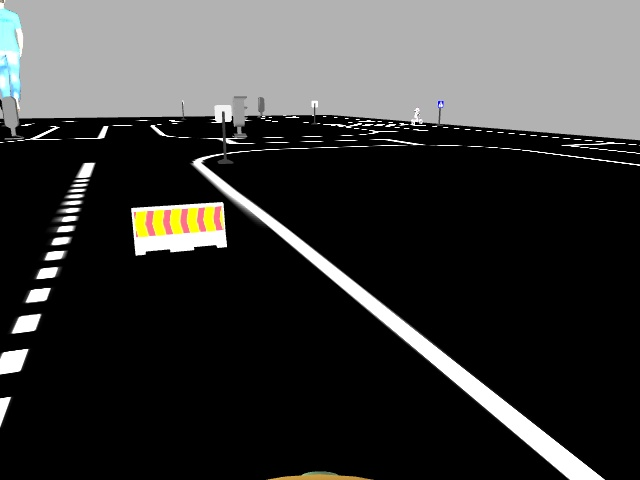ClosedRoadStand: (131, 208, 227, 244)
